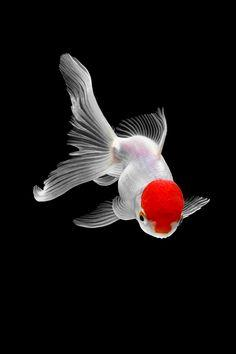goldfish: (45, 75, 216, 258)
